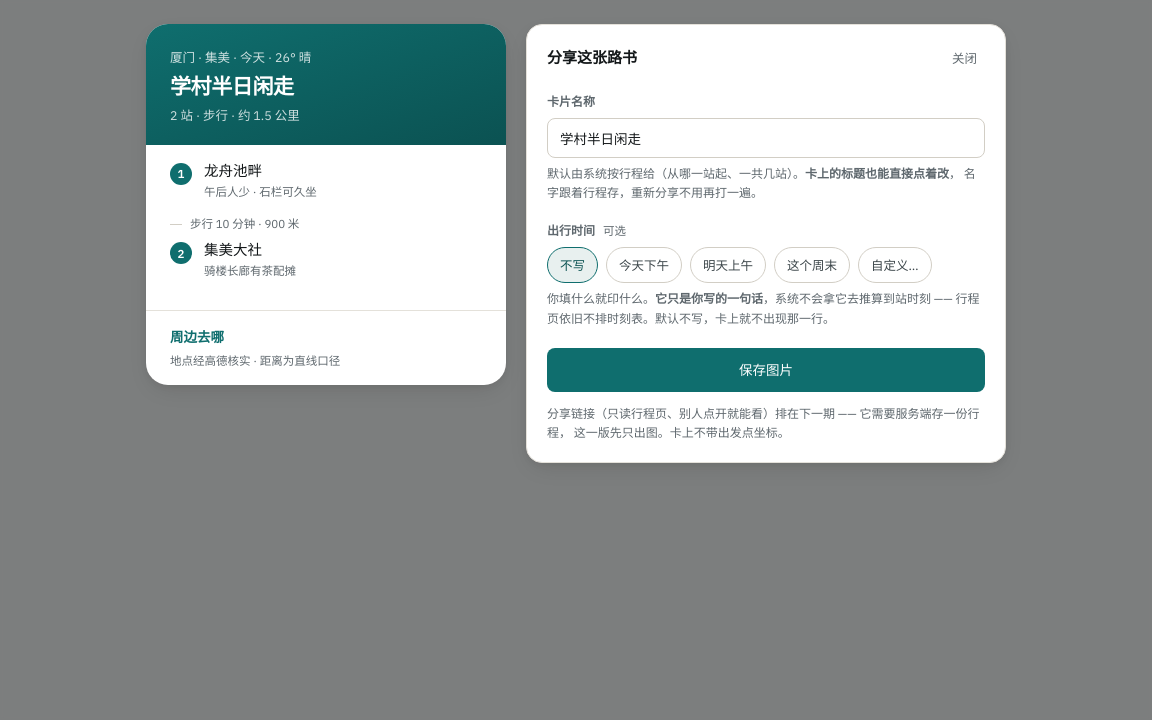
Test: ShareCardDialog · 导出 › 导出成功后说一声存哪了
Click the button "保存图片" at [766, 370], box [547,348,985,392]
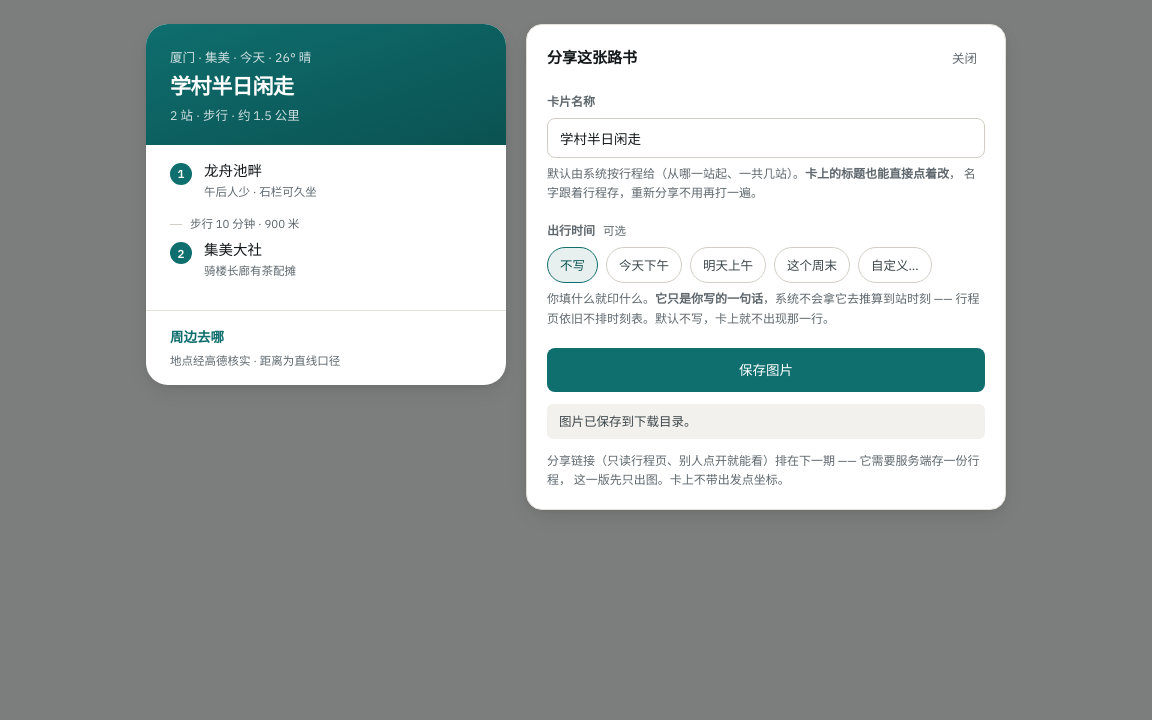
expect the text "图片已保存到下载目录。" is shown: met, box [547,404,985,439]
